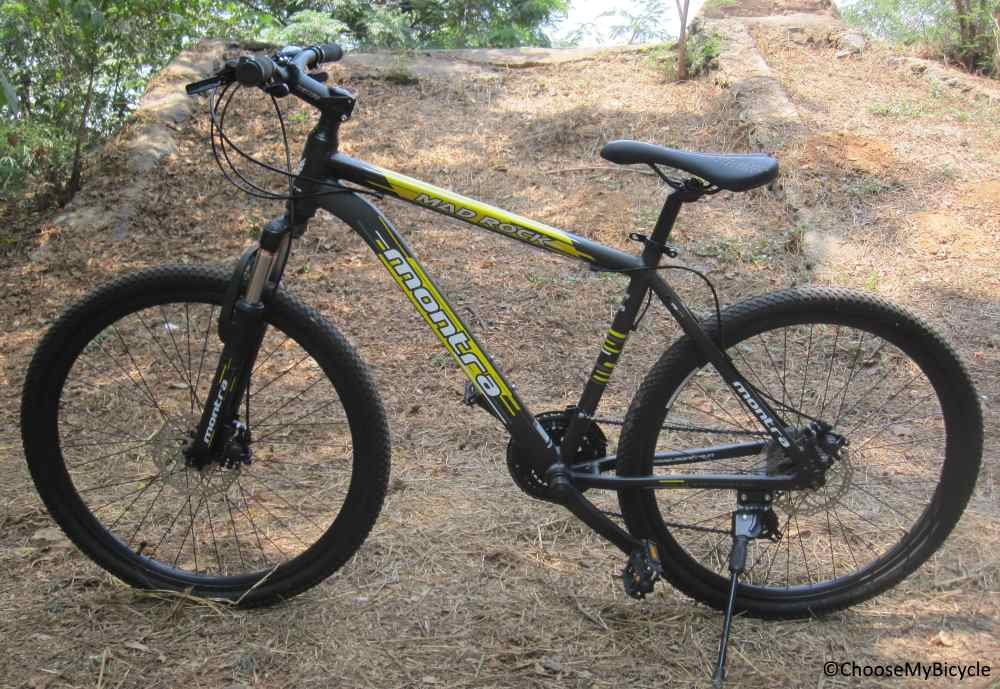cycle: (20, 36, 989, 646)
